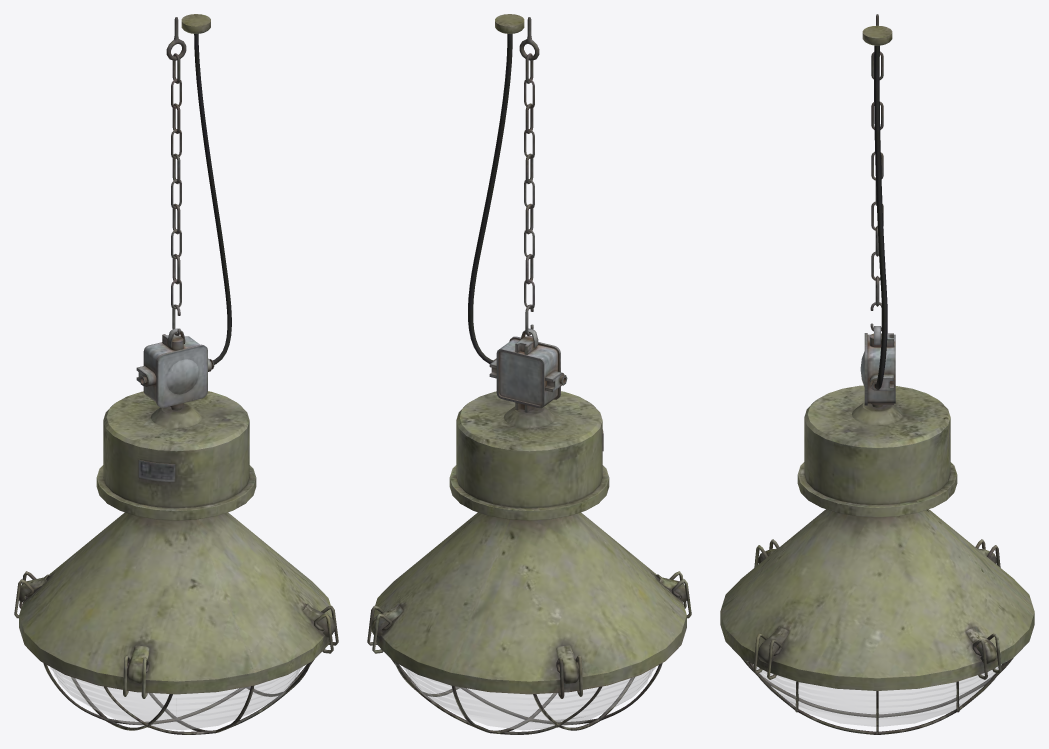
File: hanging_industrial_lamp-c4f36443.glb
3 views of the same model, side by side, from view 1: azimuth 30°, elevation 25°; view 2: azimuth 150°, elevation 25°; view 3: azimuth 270°, elevation 25° (orthographic).
Visible parts, largest first — view 1: hanging_industrial_lamp; view 2: hanging_industrial_lamp; view 3: hanging_industrial_lamp.
Boxes of the visible parts, x1,y1,x2,y2 form: hanging_industrial_lamp: (14, 14, 338, 734); hanging_industrial_lamp: (367, 14, 691, 734); hanging_industrial_lamp: (720, 14, 1034, 734).
Size of the model in its own units: 0.5496 by 1.36 by 0.5496.
2 materials, 1 textured.
